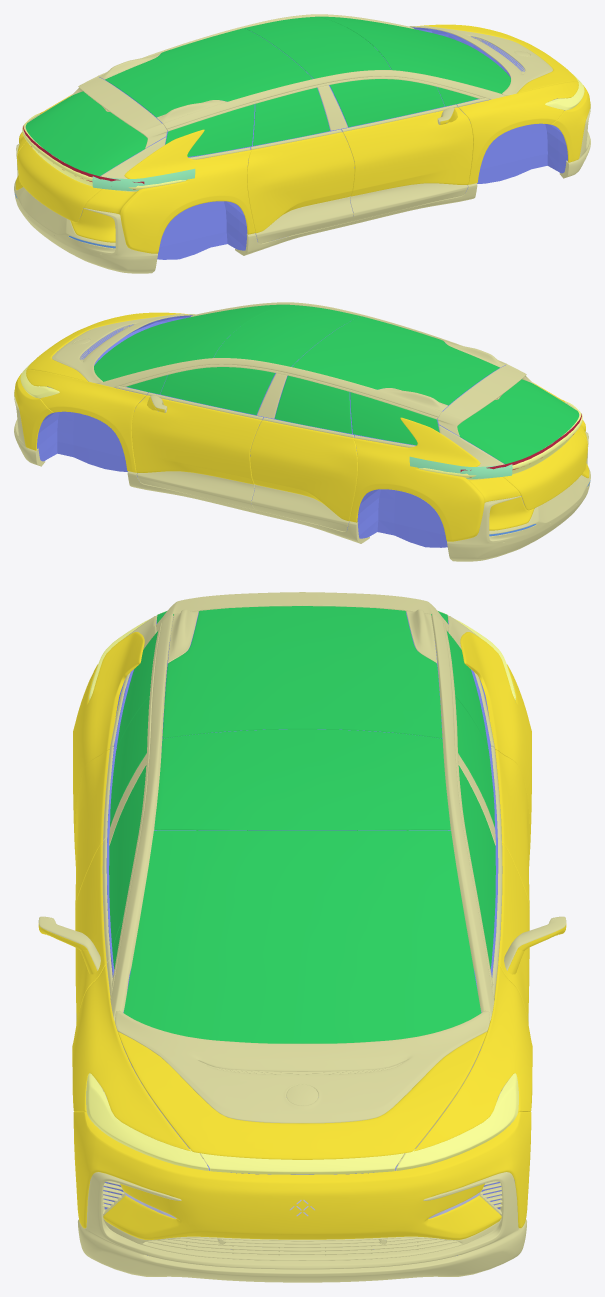
Rendered from body.gltf.
3 renders of one model, top to bottom at view 1: azimuth 30°, elevation 25°; view 2: azimuth 150°, elevation 25°; view 3: azimuth 270°, elevation 25°, orthographic. The views are drawn at different scales.
Parts seen in each view (by area): view 1: GlassTinted, BodySilver, BodyBlack, Undercarriage, GlassTransparent, Turn, Stop; view 2: GlassTinted, BodySilver, BodyBlack, Undercarriage, GlassTransparent, Turn, Stop; view 3: GlassTinted, BodySilver, BodyBlack, GlassTransparent, Undercarriage.
Part boxes in pixels (box(x1,y1,x2,y2)): GlassTinted: box(26, 16, 510, 176); BodySilver: box(15, 24, 590, 253); BodyBlack: box(14, 14, 590, 273); Undercarriage: box(25, 26, 567, 259); GlassTransparent: box(22, 72, 584, 191); Turn: box(92, 168, 195, 190); Stop: box(23, 125, 144, 189); GlassTinted: box(94, 304, 578, 464); BodySilver: box(14, 312, 589, 541); BodyBlack: box(14, 302, 590, 561); Undercarriage: box(37, 315, 579, 547); GlassTransparent: box(20, 360, 582, 479); Turn: box(409, 456, 512, 478); Stop: box(460, 413, 581, 477); GlassTinted: box(109, 606, 495, 1043); BodySilver: box(38, 632, 566, 1239); BodyBlack: box(38, 592, 566, 1282); GlassTransparent: box(86, 611, 518, 1174); Undercarriage: box(90, 612, 514, 1255).
Bounding box in the file's own units: 10.5 × 2.93 × 4.57.
